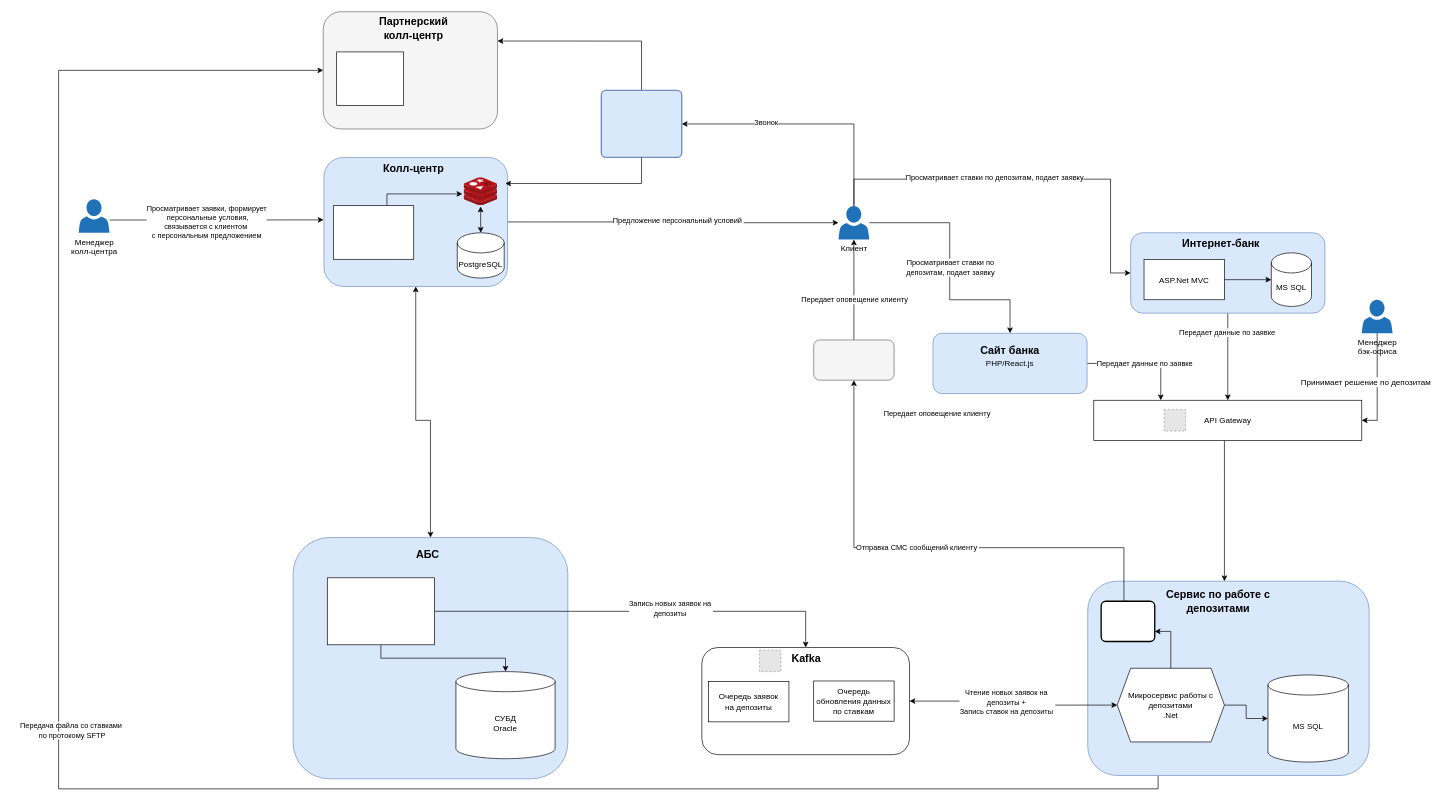
Some shapes in this 1442 by 806 pixel diagram are drawn without their labels. Grey dashed boxes stand in for pictures. Here are the shapes that lost their labels. From the top down, the centre of each, then its label:
At pixel 370 78: "SFTP server".
At pixel 641 123: "Call Balanser (балансировщик нагрузки звонков )".
At pixel 373 232: "React.js/Java Spring Boot".
At pixel 853 359: "СМС-провайдер".
At pixel 380 611: "Десктопное приложение на Delphi".
At pixel 1127 621: "SMS шлюз".
